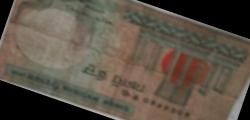2 taka: (14, 1, 232, 117)
